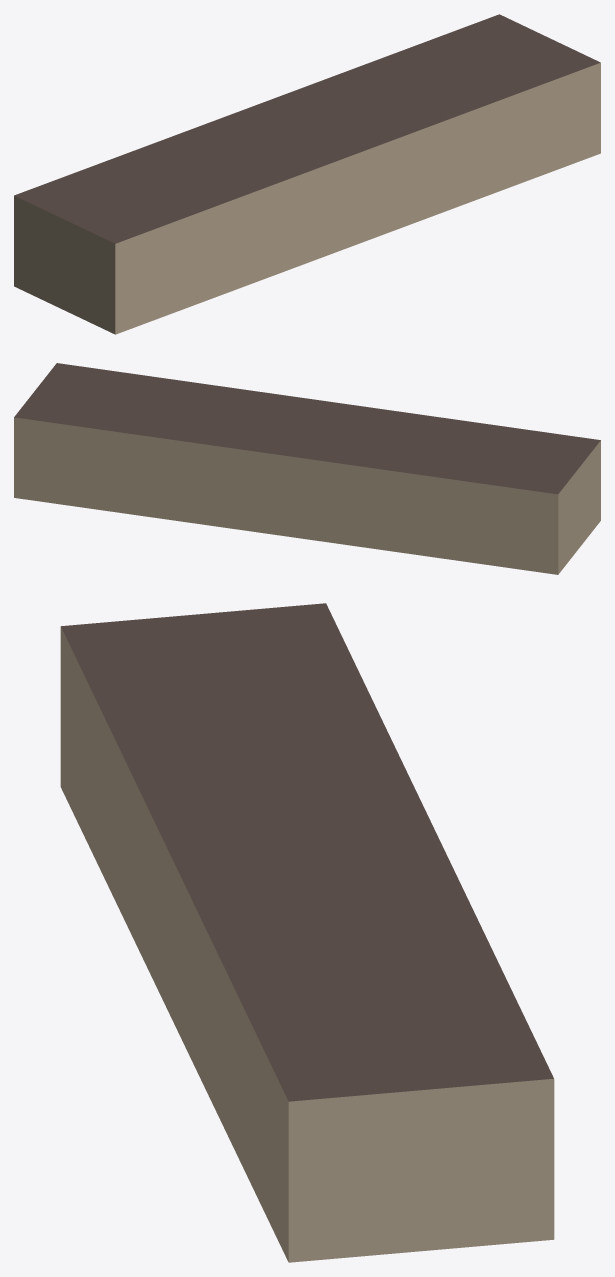
3 views of the same model, one above another, from view 1: azimuth 30°, elevation 25°; view 2: azimuth 150°, elevation 25°; view 3: azimuth 270°, elevation 25° (orthographic). The views are drawn at different scales.
Visible parts, largest first — view 1: HP-w859457390; view 2: HP-w859457390; view 3: HP-w859457390.
Part boxes in pixels (x1=…): HP-w859457390: x1=14, y1=14, x2=600, y2=334; HP-w859457390: x1=14, y1=363, x2=600, y2=574; HP-w859457390: x1=60, y1=603, x2=554, y2=1262.
Bounding box in the file's own units: 59.73 × 9 × 24.99.
